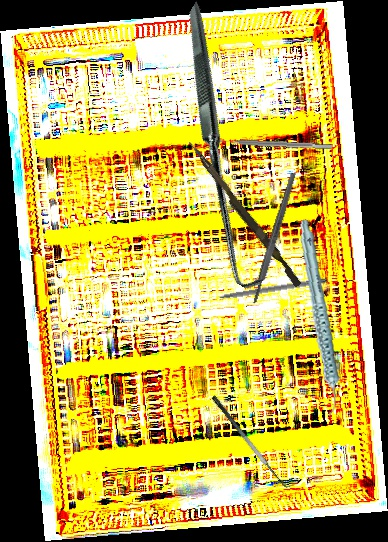Fixation Ring: (212, 132, 333, 157)
Handpiece: (285, 219, 351, 417)
Hook Surgical: (82, 1, 369, 294), (202, 276, 328, 303)
Pusher: (182, 140, 306, 288)
Scalpel Handle: (250, 170, 298, 306)
Spatula Surgical: (210, 389, 296, 494)
